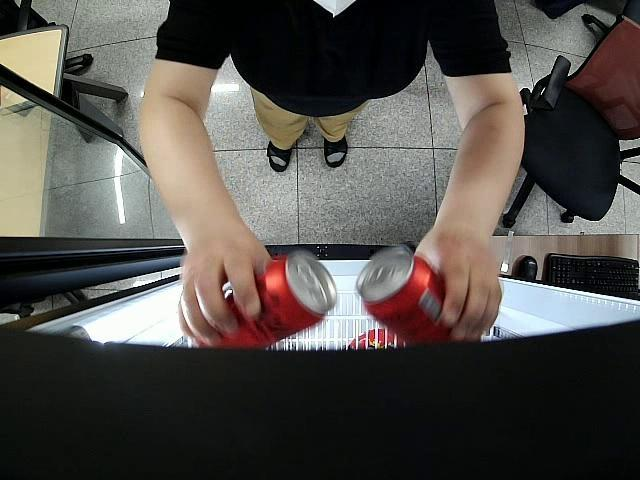11_cocaColaZero: (192, 251, 337, 349), (357, 246, 459, 344)
